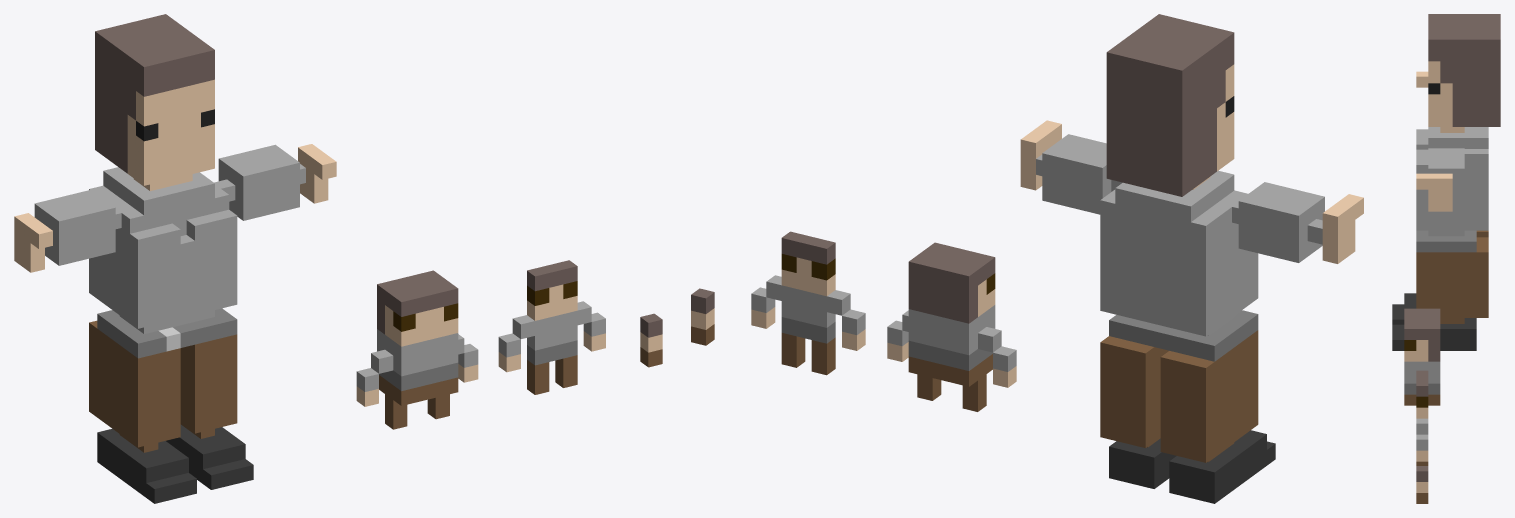
The model's file is Characters_Tam.glb.
3 renders of one model, left to right at view 1: azimuth 30°, elevation 25°; view 2: azimuth 150°, elevation 25°; view 3: azimuth 270°, elevation 25°, orthographic. The views are drawn at different scales.
Parts seen in each view (by area): view 1: pl0; view 2: pl0; view 3: pl0.
Part boxes in pixels (box(x1,y1,x2,y2)): pl0: box(14, 14, 662, 503); pl0: box(691, 14, 1363, 503); pl0: box(1392, 14, 1500, 503).
Bounding box in the file's own units: 44 × 28 × 9.
Materials: 1 (1 with a texture image).
